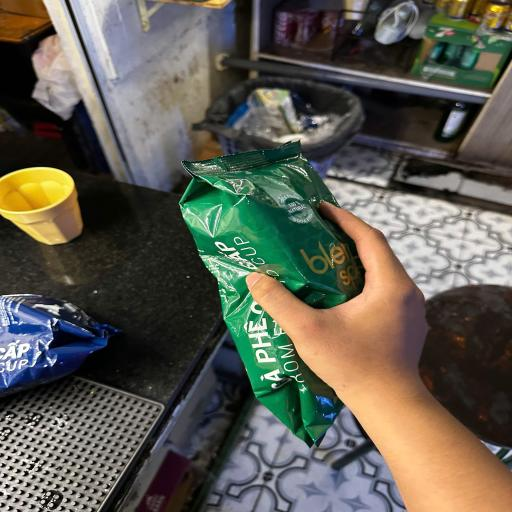cafe_xay: (133, 143, 430, 462)
